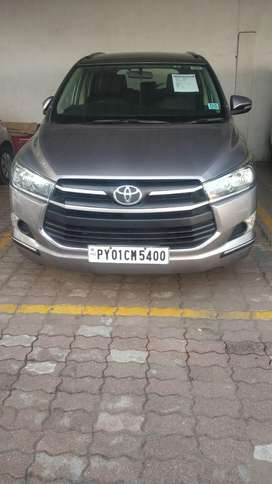PY01CM5400: (87, 244, 168, 264)
